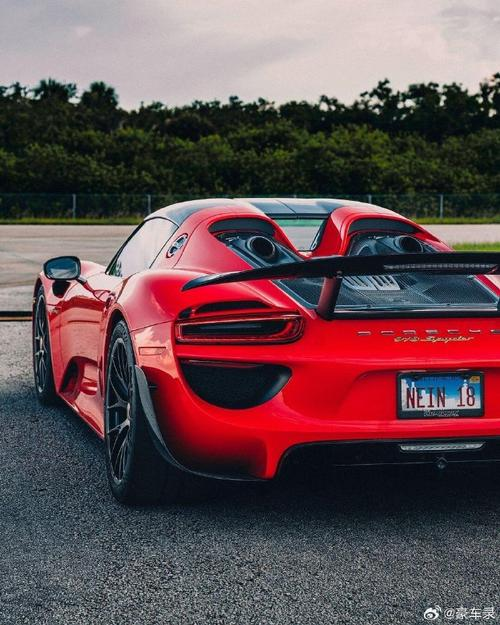汽车: (29, 199, 500, 509)
